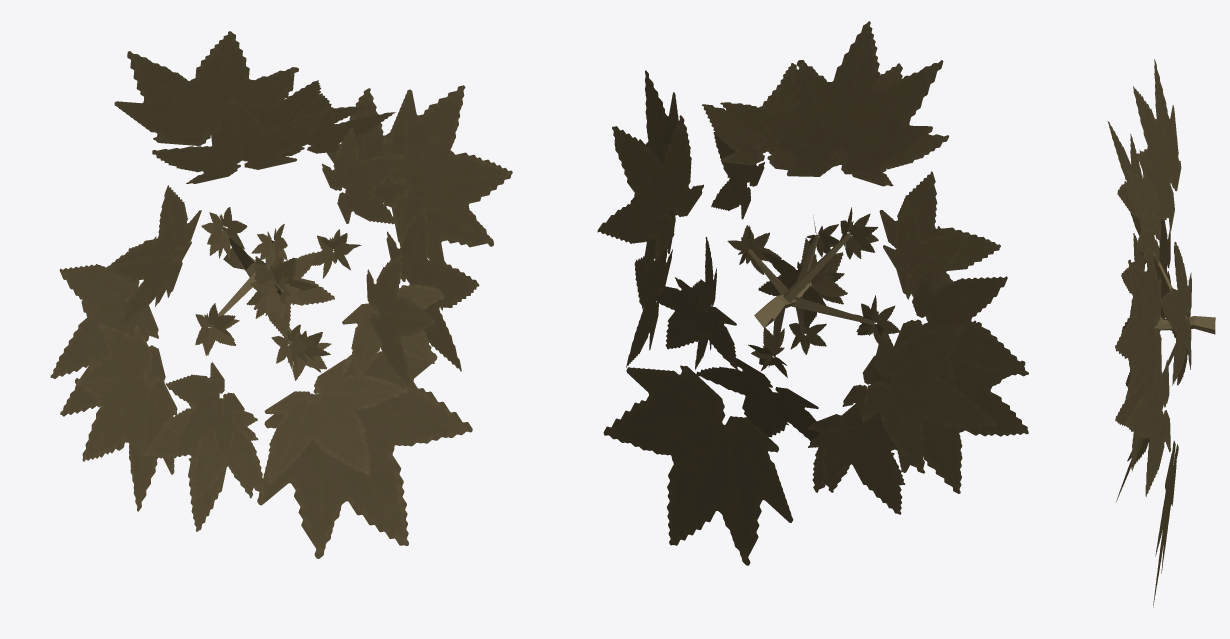
The model's file is p_kush_vegetative_c4_cards.obj.
The picture shows the model from 3 angles, left to right: view 1: azimuth 30°, elevation 25°; view 2: azimuth 150°, elevation 25°; view 3: azimuth 270°, elevation 25°; orthographic projection. The views are drawn at different scales.
Size of the model in its own units: 1.08 by 1.36 by 0.272.
Materials: 1 (1 with a texture image).
